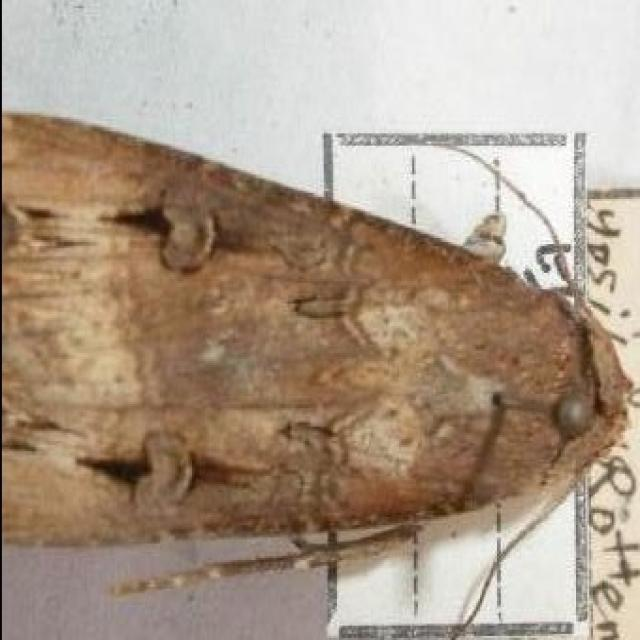black cutworm: (3, 101, 628, 620)
